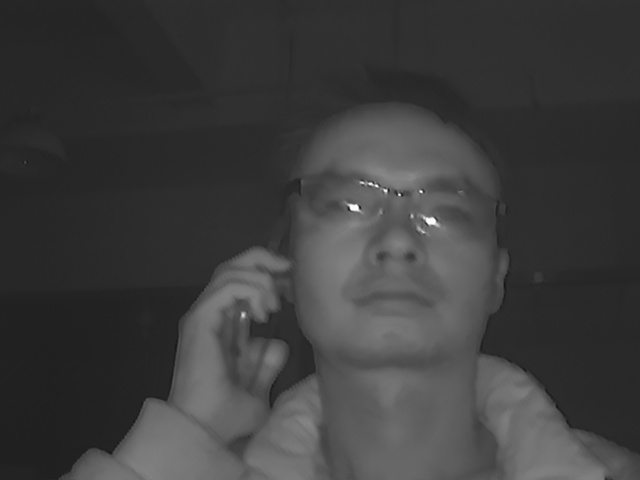hand: (166, 242, 294, 432)
